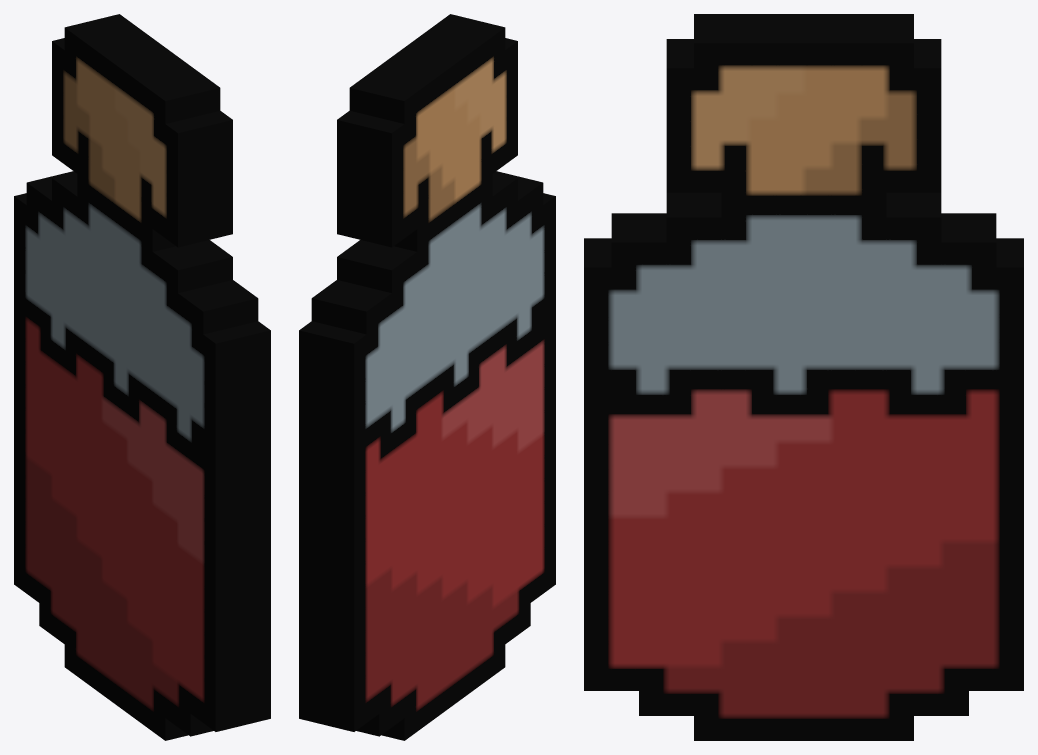
Rendered from 013-Equipment_MediumHealthPotion.fbx.
3 renders of one model, left to right at view 1: azimuth 30°, elevation 25°; view 2: azimuth 150°, elevation 25°; view 3: azimuth 270°, elevation 25°, orthographic. The views are drawn at different scales.
Visible parts, largest first — view 1: Equipments13; view 2: Equipments13; view 3: Equipments13.
Part boxes in pixels (x1,y1,x2,y2): Equipments13: (14,14,270,740); Equipments13: (299,14,555,740); Equipments13: (584,14,1023,740).
Bounding box in the file's own units: 0.045 × 0.5 × 0.2857.
Materials: 1 (1 with a texture image).
